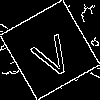V: (24, 25, 77, 81)
